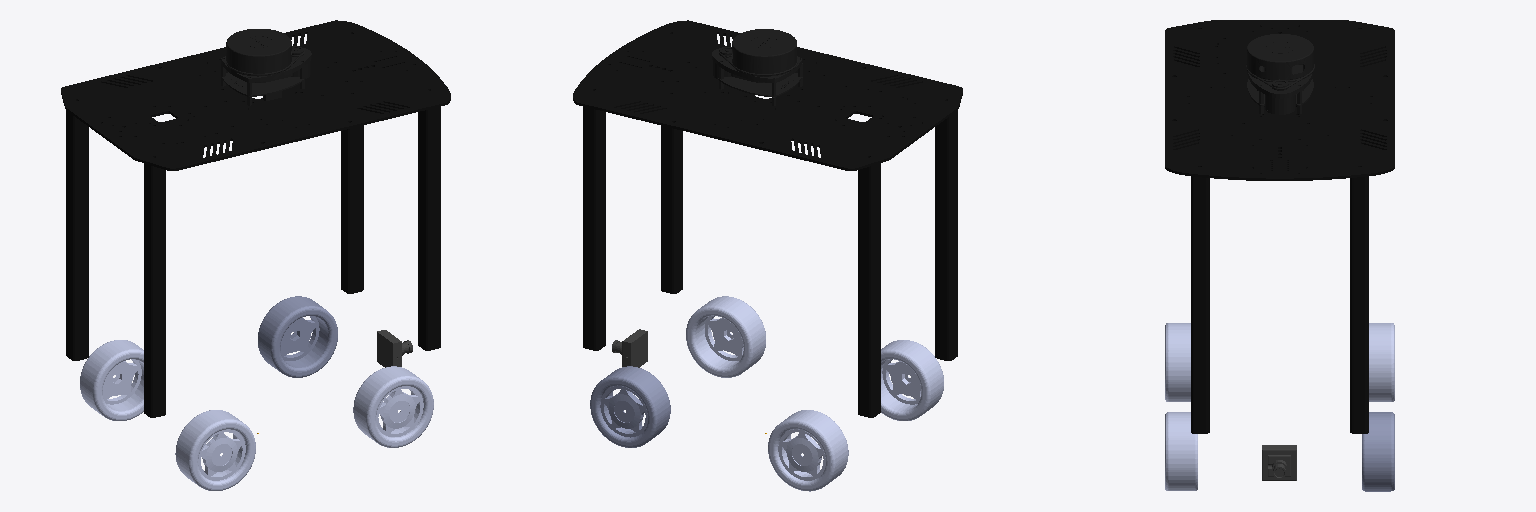
The robot description file, URDF, robot "wanderbot4W_description":
<?xml version="1.0" encoding="utf-8"?>
<robot
  name="wanderbot4W_description">
  <link name="base_footprint">
    <visual>
      <geometry>
          <sphere radius="0.001"/>
      </geometry>
    </visual>
  </link>
  <link
    name="base_link">
    <inertial>
      <origin
        xyz="-0.0046066 0.00020213 0.032597"
        rpy="0 0 0" />
      <mass
        value="1.0079" />
      <inertia
        ixx="0.0022232"
        ixy="-5.4197E-06"
        ixz="1.9875E-09"
        iyy="0.0060514"
        iyz="-9.5219E-07"
        izz="0.0081338" />
    </inertial>
    <visual>
      <origin
        xyz="0 0 0"
        rpy="0 0 0" />
      <geometry>
        <mesh
          filename="package://wanderbot4W_description/mesh/diff_4w/base_link.STL" />
      </geometry>
      <material
        name="">
        <color
          rgba="0.1 0.1 0.1 1" />
      </material>
    </visual>
    <collision>
      <origin
        xyz="0 0 0"
        rpy="0 0 0" />
      <geometry>
        <mesh
          filename="package://wanderbot4W_description/mesh/diff_4w/base_link.STL" />
      </geometry>
    </collision>
  </link>
  <joint name="baselink2basefootprint" type="fixed">
    <parent link="base_footprint"/>
    <child link="base_link"/>
    <origin xyz="0.0 0.0 0.03"/>
  </joint>
  <!-- 添加三楼 -->
  <link
    name="bracket_link">
    <inertial>
      <origin
        xyz="-0.0042701 1.2621E-05 -0.095635"
        rpy="0 0 0" />
      <mass
        value="0.71039" />
      <inertia
        ixx="0.0045868"
        ixy="9.8566E-07"
        ixz="8.5969E-20"
        iyy="0.0065441"
        iyz="-8.9654E-15"
        izz="0.0044039" />
    </inertial>
    <visual>
      <origin
        xyz="0 0 0"
        rpy="0 0 0" />
      <geometry>
        <mesh
          filename="package://wanderbot4W_description/mesh/diff_4w/bracket_link.STL" />
      </geometry>
      <material
        name="">
        <color
          rgba="0.1 0.1 0.1 1" />
      </material>
    </visual>
    <collision>
      <origin
        xyz="0 0 0"
        rpy="0 0 0" />
      <geometry>
        <mesh
          filename="package://wanderbot4W_description/mesh/diff_4w/bracket_link.STL" />
      </geometry>
    </collision>
  </link>
  <joint name="brachet2baselink" type="fixed">
    <parent link="base_link"/>
    <child link="bracket_link"/>
    <origin xyz="0.0 0.0 0.37"/>
  </joint>
  <link
    name="laser">
    <inertial>
      <origin
        xyz="0.0077192 0.00012032 -0.010702"
        rpy="0 0 0" />
      <mass
        value="0.16249" />
      <inertia
        ixx="7.2364E-05"
        ixy="2.8411E-07"
        ixz="1.5727E-05"
        iyy="0.0001121"
        iyz="-4.0098E-07"
        izz="0.00013004" />
    </inertial>
    <visual>
      <origin
        xyz="0 0 0"
        rpy="0 0 0" />
      <geometry>
        <mesh
          filename="package://wanderbot4W_description/mesh/diff_4w/laser_link.STL" />
      </geometry>
      <material
        name="">
        <color
          rgba="0.15 0.15 0.15 1" />
      </material>
    </visual>
    <collision>
      <origin
        xyz="0 0 0"
        rpy="0 0 0" />
      <geometry>
        <mesh
          filename="package://wanderbot4W_description/mesh/diff_4w/laser_link.STL" />
      </geometry>
    </collision>
  </link>
  <joint
    name="laser_joint"
    type="fixed">
    <origin
      xyz="-0.0 -0.0 0.05116"
      rpy="0 0 0" />
    <parent
      link="bracket_link" />
    <child
      link="laser" />
    <axis
      xyz="0 0 0" />
  </joint>
  <link
    name="camera">
    <inertial>
      <origin
        xyz="-0.020313 2.6086E-05 -1.2986E-09"
        rpy="0 0 0" />
      <mass
        value="0.018279" />
      <inertia
        ixx="3.2476E-06"
        ixy="-2.1188E-09"
        ixz="1.3504E-13"
        iyy="2.4033E-06"
        iyz="-2.3775E-13"
        izz="2.3911E-06" />
    </inertial>
    <visual>
      <origin
        xyz="0 0 0"
        rpy="0 0 0" />
      <geometry>
        <mesh
          filename="package://wanderbot4W_description/mesh/diff_4w/camera_link.STL" />
      </geometry>
      <material
        name="">
        <color
          rgba="0.3 0.3 0.3 1" />
      </material>
    </visual>
    <collision>
      <origin
        xyz="0 0 0"
        rpy="0 0 0" />
      <geometry>
        <mesh
          filename="package://wanderbot4W_description/mesh/diff_4w/camera_link.STL" />
      </geometry>
    </collision>
  </link>
  <joint
    name="camera_joint"
    type="fixed">
    <origin
      xyz="0.18522 -0.00046229 0.0293"
      rpy="0 0 0" />
    <parent
      link="base_link" />
    <child
      link="camera" />
    <axis
      xyz="0 0 0" />
  </joint>
  <link
    name="left_former_link">
    <inertial>
      <origin
        xyz="-1.5266E-16 -0.0071412 1.1102E-16"
        rpy="0 0 0" />
      <mass
        value="0.10264" />
      <inertia
        ixx="7.0079E-05"
        ixy="6.4133E-20"
        ixz="2.2674E-19"
        iyy="0.00012111"
        iyz="-6.165E-20"
        izz="7.0079E-05" />
    </inertial>
    <visual>
      <origin
        xyz="0 0 0"
        rpy="0 0 0" />
      <geometry>
        <mesh
          filename="package://wanderbot4W_description/mesh/diff_4w/left_former_link.STL" />
      </geometry>
      <material
        name="">
        <color
          rgba="0.59216 0.61961 0.73333 1" />
      </material>
    </visual>
    <collision>
      <origin
        xyz="0 0 0"
        rpy="0 0 0" />
      <geometry>
        <mesh
          filename="package://wanderbot4W_description/mesh/diff_4w/left_former_link.STL" />
      </geometry>
    </collision>
  </link>
  <joint
    name="left_former_joint"
    type="continuous">
    <origin
      xyz="0.10837 0.11101 0.017306"
      rpy="0 0 0" />
    <parent
      link="base_link" />
    <child
      link="left_former_link" />
    <axis
      xyz="0 1 0" />
  </joint>
  <link
    name="left_rear_link">
    <inertial>
      <origin
        xyz="-8.3267E-17 -0.0071412 1.1102E-16"
        rpy="0 0 0" />
      <mass
        value="0.10264" />
      <inertia
        ixx="7.0079E-05"
        ixy="6.4582E-20"
        ixz="2.2701E-19"
        iyy="0.00012111"
        iyz="-6.1351E-20"
        izz="7.0079E-05" />
    </inertial>
    <visual>
      <origin
        xyz="0 0 0"
        rpy="0 0 0" />
      <geometry>
        <mesh
          filename="package://wanderbot4W_description/mesh/diff_4w/left_rear_link.STL" />
      </geometry>
      <material
        name="">
        <color
          rgba="0.79216 0.81961 0.93333 1" />
      </material>
    </visual>
    <collision>
      <origin
        xyz="0 0 0"
        rpy="0 0 0" />
      <geometry>
        <mesh
          filename="package://wanderbot4W_description/mesh/diff_4w/left_rear_link.STL" />
      </geometry>
    </collision>
  </link>
  <joint
    name="left_rear_joint"
    type="continuous">
    <origin
      xyz="-0.11163 0.11101 0.017306"
      rpy="0 0 0" />
    <parent
      link="base_link" />
    <child
      link="left_rear_link" />
    <axis
      xyz="0 1 0" />
  </joint>
  <link
    name="right_former_link">
    <inertial>
      <origin
        xyz="4.1633E-17 0.0071412 2.7756E-16"
        rpy="0 0 0" />
      <mass
        value="0.10264" />
      <inertia
        ixx="7.0079E-05"
        ixy="3.1736E-20"
        ixz="-1.4488E-19"
        iyy="0.00012111"
        iyz="5.3239E-20"
        izz="7.0079E-05" />
    </inertial>
    <visual>
      <origin
        xyz="0 0 0"
        rpy="0 0 0" />
      <geometry>
        <mesh
          filename="package://wanderbot4W_description/mesh/diff_4w/right_former_link.STL" />
      </geometry>
      <material
        name="">
        <color
          rgba="0.79216 0.81961 0.93333 1" />
      </material>
    </visual>
    <collision>
      <origin
        xyz="0 0 0"
        rpy="0 0 0" />
      <geometry>
        <mesh
          filename="package://wanderbot4W_description/mesh/diff_4w/right_former_link.STL" />
      </geometry>
    </collision>
  </link>
  <joint
    name="right_former_joint"
    type="continuous">
    <origin
      xyz="0.10837 -0.11099 0.017306"
      rpy="0 0 0" />
    <parent
      link="base_link" />
    <child
      link="right_former_link" />
    <axis
      xyz="0 1 0" />
  </joint>
  <link
    name="right_rear_link">
    <inertial>
      <origin
        xyz="5.5511E-17 0.0071412 0"
        rpy="0 0 0" />
      <mass
        value="0.10264" />
      <inertia
        ixx="7.0079E-05"
        ixy="4.569E-20"
        ixz="-1.421E-19"
        iyy="0.00012111"
        iyz="6.4334E-20"
        izz="7.0079E-05" />
    </inertial>
    <visual>
      <origin
        xyz="0 0 0"
        rpy="0 0 0" />
      <geometry>
        <mesh
          filename="package://wanderbot4W_description/mesh/diff_4w/right_rear_link.STL" />
      </geometry>
      <material
        name="">
        <color
          rgba="0.79216 0.81961 0.93333 1" />
      </material>
    </visual>
    <collision>
      <origin
        xyz="0 0 0"
        rpy="0 0 0" />
      <geometry>
        <mesh
          filename="package://wanderbot4W_description/mesh/diff_4w/right_rear_link.STL" />
      </geometry>
    </collision>
  </link>
  <joint
    name="right_rear_joint"
    type="continuous">
    <origin
      xyz="-0.11163 -0.11099 0.017306"
      rpy="0 0 0" />
    <parent
      link="base_link" />
    <child
      link="right_rear_link" />
    <axis
      xyz="0 1 0" />
  </joint>

  <!-- Gazebo plugin for differential drive -->
  <gazebo>
        <plugin name='diff_drive' filename='libgazebo_ros_diff_drive.so'>
            <ros>
            <namespace>/</namespace>
            <remapping>cmd_vel:=cmd_vel</remapping>
            <remapping>odom:=odom</remapping>
            </ros>
            <update_rate>30</update_rate>
            <!-- wheels -->
            <left_joint>left_rear_joint</left_joint>  <!-- Name of the left wheel joint -->
            <right_joint>right_rear_joint</right_joint>  <!-- Name of the right wheel joint -->
            <!-- kinematics -->
            <wheel_separation>0.5</wheel_separation>
            <wheel_diameter>0.15</wheel_diameter>
            <!-- limits -->
            <max_wheel_torque>20</max_wheel_torque>
            <max_wheel_acceleration>1.0</max_wheel_acceleration>
            <!-- output -->
            <publish_odom>true</publish_odom>
            <publish_odom_tf>true</publish_odom_tf>
            <publish_wheel_tf>false</publish_wheel_tf>
            <odometry_frame>odom</odometry_frame>
            <robot_base_frame>base_footprint</robot_base_frame>
        </plugin>
        <plugin name="wanderbot_joint_state" filename="libgazebo_ros_joint_state_publisher.so">
            <ros>
                <remapping>~/out:=joint_states</remapping>
            </ros>
            <update_rate>30</update_rate>
            <joint_name>left_rear_joint</joint_name>
            <joint_name>right_rear_joint</joint_name>
        </plugin> 
    </gazebo>

</robot>

--- What the picture shows (computed from the rendered views, not written in the file) ---
3 views of the same robot in one strip: view 1: azimuth 30°, elevation 25°; view 2: azimuth 150°, elevation 25°; view 3: azimuth 270°, elevation 25° (orthographic).
Robot: wanderbot4W_description — 9 links, 8 joints (4 continuous, 4 fixed); root link base_footprint; default pose: all joints at 0.
Visible links, largest first — view 1: bracket_link, laser, left_former_link, right_former_link, right_rear_link, left_rear_link, camera; view 2: bracket_link, right_former_link, left_former_link, left_rear_link, laser, right_rear_link, camera; view 3: bracket_link, laser, left_former_link, right_former_link, left_rear_link, right_rear_link, camera.
Link boxes in pixels (left/top/right/bottom): bracket_link: left=61, top=20, right=450, bottom=417; laser: left=221, top=29, right=311, bottom=105; left_former_link: left=258, top=296, right=337, bottom=377; right_former_link: left=353, top=366, right=433, bottom=447; right_rear_link: left=175, top=410, right=255, bottom=490; left_rear_link: left=80, top=340, right=143, bottom=420; camera: left=377, top=330, right=412, bottom=367; bracket_link: left=573, top=20, right=962, bottom=417; right_former_link: left=686, top=296, right=765, bottom=377; left_former_link: left=590, top=366, right=670, bottom=447; left_rear_link: left=768, top=410, right=848, bottom=491; laser: left=712, top=29, right=802, bottom=105; right_rear_link: left=881, top=340, right=943, bottom=420; camera: left=612, top=329, right=647, bottom=367; bracket_link: left=1165, top=20, right=1394, bottom=433; laser: left=1246, top=34, right=1314, bottom=114; left_former_link: left=1362, top=412, right=1394, bottom=491; right_former_link: left=1165, top=412, right=1197, bottom=490; left_rear_link: left=1369, top=323, right=1394, bottom=401; right_rear_link: left=1165, top=323, right=1190, bottom=401; camera: left=1262, top=445, right=1296, bottom=480.
Size in the robot's own frame: 0.39 by 0.24 by 0.4632 metres.
Meshes: 8 distinct files referenced, 7 mesh visuals loaded (7 binary STL); not drawn: 1 (reference not matched to a file when rendering).
